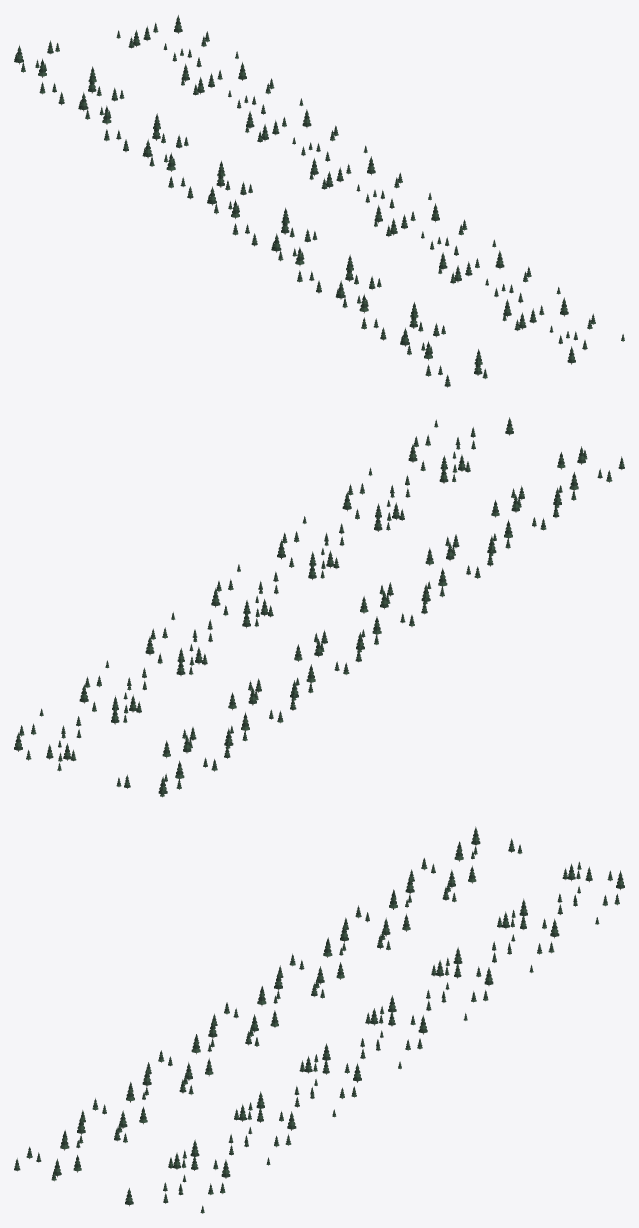
Rendered from TreesLoop.obj.
3 renders of one model, top to bottom at view 1: azimuth 30°, elevation 25°; view 2: azimuth 150°, elevation 25°; view 3: azimuth 330°, elevation 25°, orthographic. The views are drawn at different scales.
Visible parts, largest first — view 1: TreesLoop; view 2: TreesLoop; view 3: TreesLoop.
Boxes of the visible parts, x1,y1,x2,y2 form: TreesLoop: [14, 15, 624, 387]; TreesLoop: [14, 417, 624, 797]; TreesLoop: [14, 826, 624, 1213].
Bounding box in the file's own units: 161 × 16.34 × 674.
Materials: 1 (1 with a texture image).
